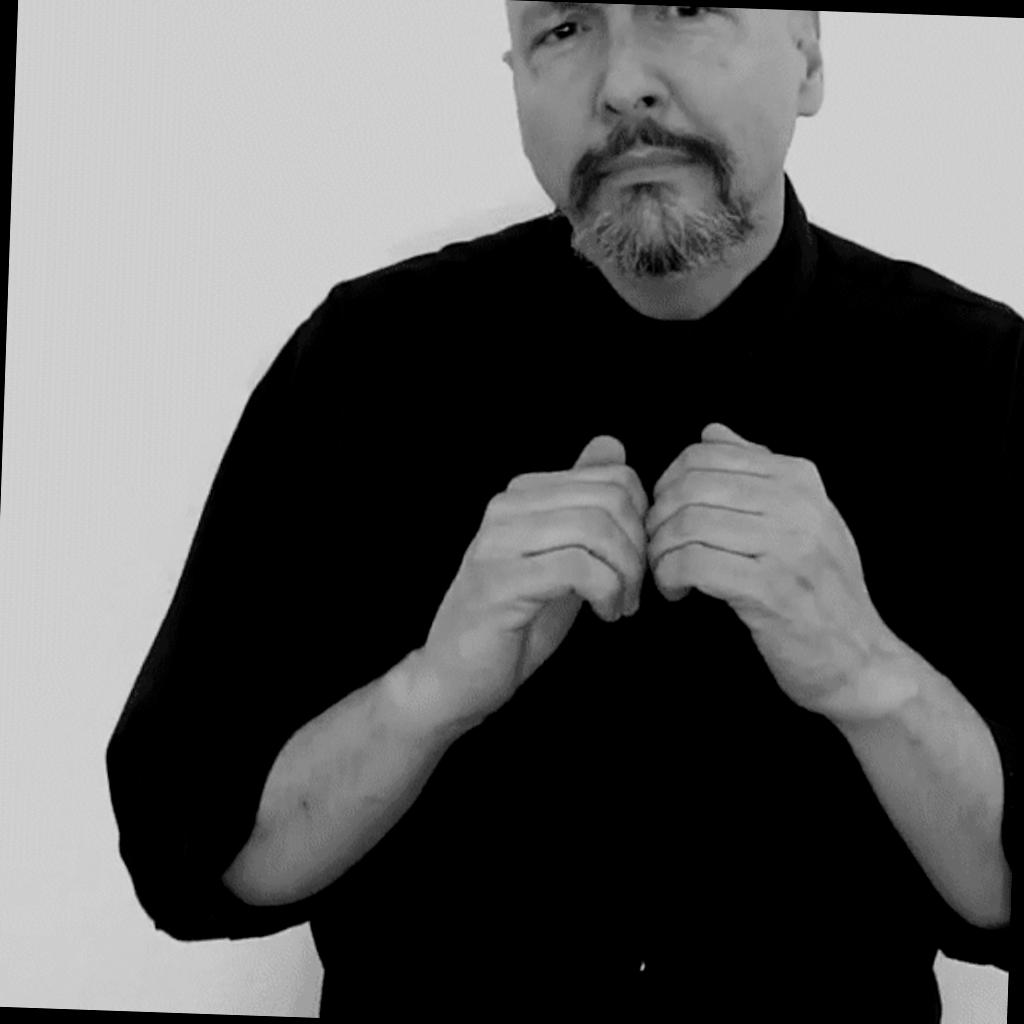how: (422, 414, 876, 712)
